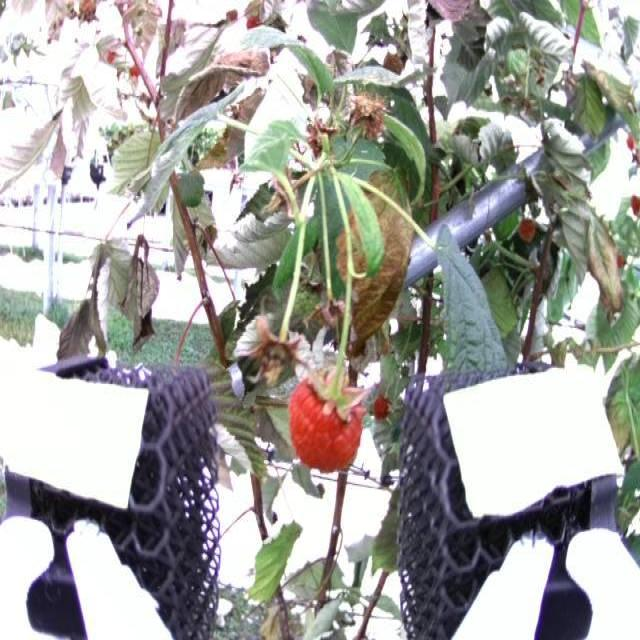Riped berries: (286, 362, 363, 470)
